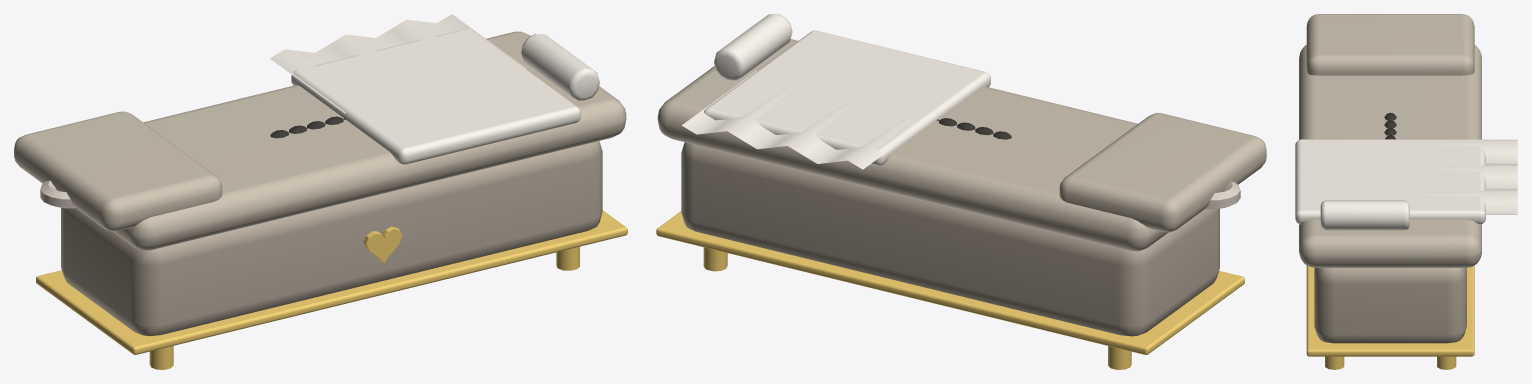
The model's file is spa_massage_bed.glb.
3 views of the same model, side by side, from view 1: azimuth 30°, elevation 25°; view 2: azimuth 150°, elevation 25°; view 3: azimuth 270°, elevation 25° (orthographic). The views are drawn at different scales.
Visible parts, largest first — view 1: spa_massage_bed; view 2: spa_massage_bed; view 3: spa_massage_bed.
Part boxes in pixels (x1,y1,x2,y2): spa_massage_bed: [14, 14, 627, 369]; spa_massage_bed: [656, 14, 1266, 369]; spa_massage_bed: [1295, 14, 1517, 369].
Size of the model in its own units: 2.06 by 0.73 by 0.875.
